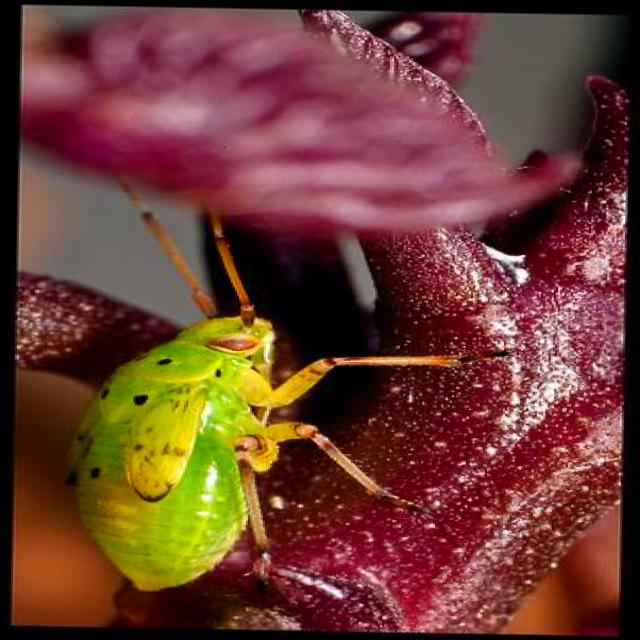Aphids: (22, 245, 486, 600)
